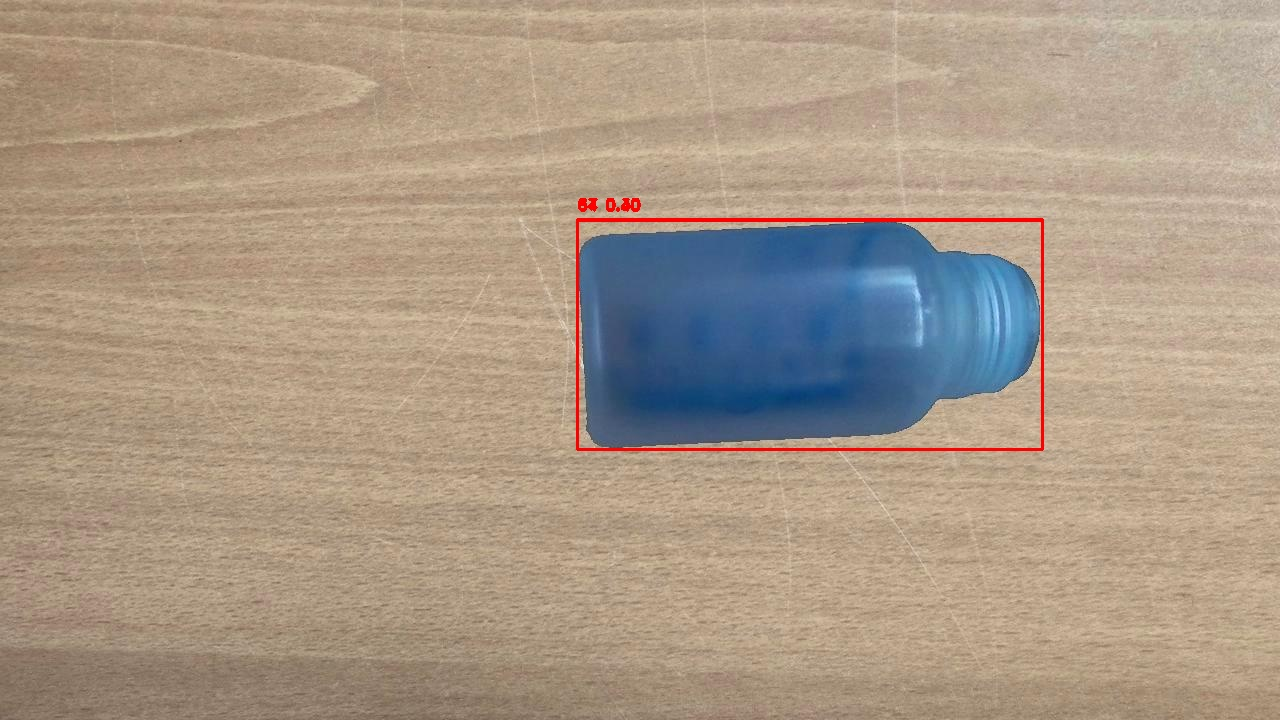cup: (577, 219, 1042, 449), (577, 220, 1042, 449)
